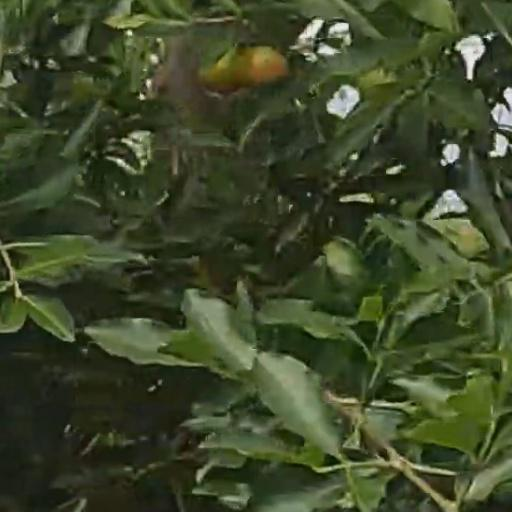acerola: (234, 49, 286, 84)
